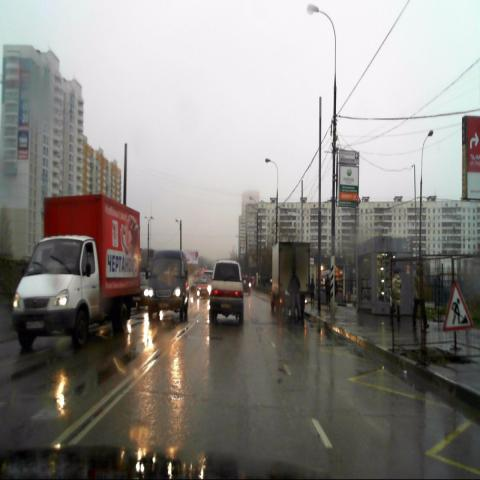1_25: (443, 282, 474, 331)
